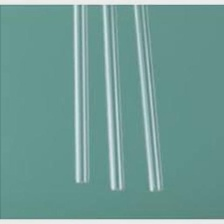drinking_straw: (130, 4, 169, 196), (64, 5, 96, 189), (98, 3, 127, 195)
